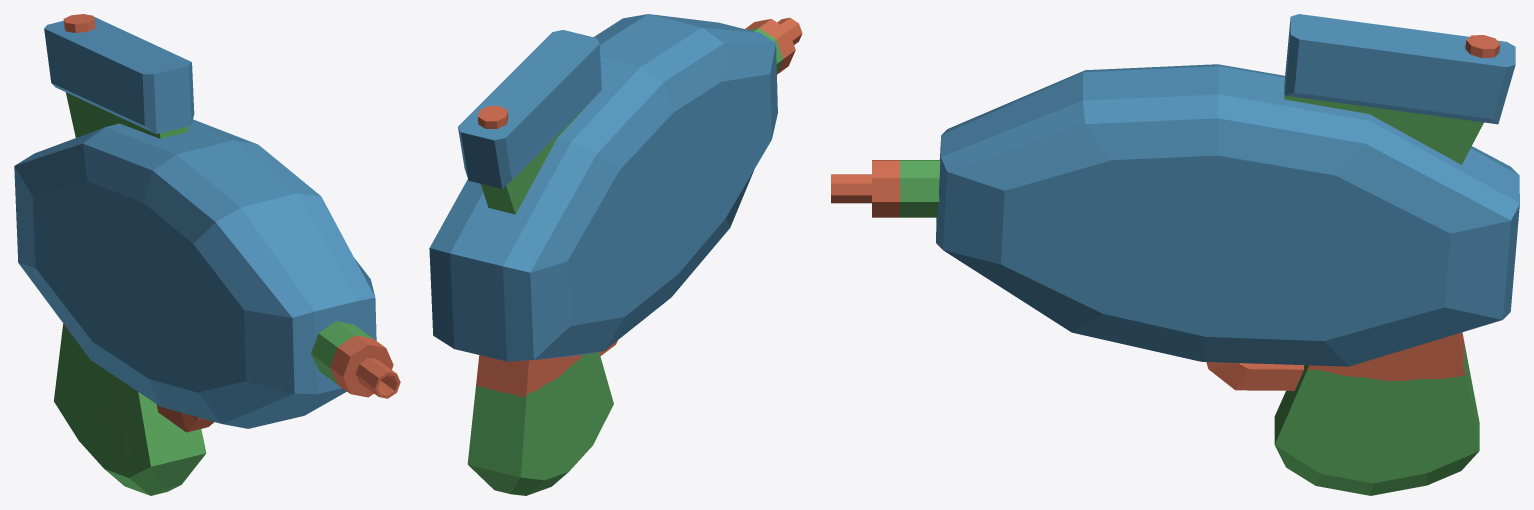
File: WaterGun.fbx
The picture shows the model from 3 angles, left to right: view 1: azimuth 30°, elevation 25°; view 2: azimuth 150°, elevation 25°; view 3: azimuth 270°, elevation 25°; orthographic projection. The views are drawn at different scales.
Parts seen in each view (by area): view 1: whatergun; view 2: whatergun; view 3: whatergun.
Boxes of the visible parts, x1,y1,x2,y2 form: whatergun: (14, 14, 400, 495); whatergun: (429, 14, 802, 495); whatergun: (831, 14, 1519, 495).
Size of the model in its own units: 13.27 by 44.26 by 59.28.
